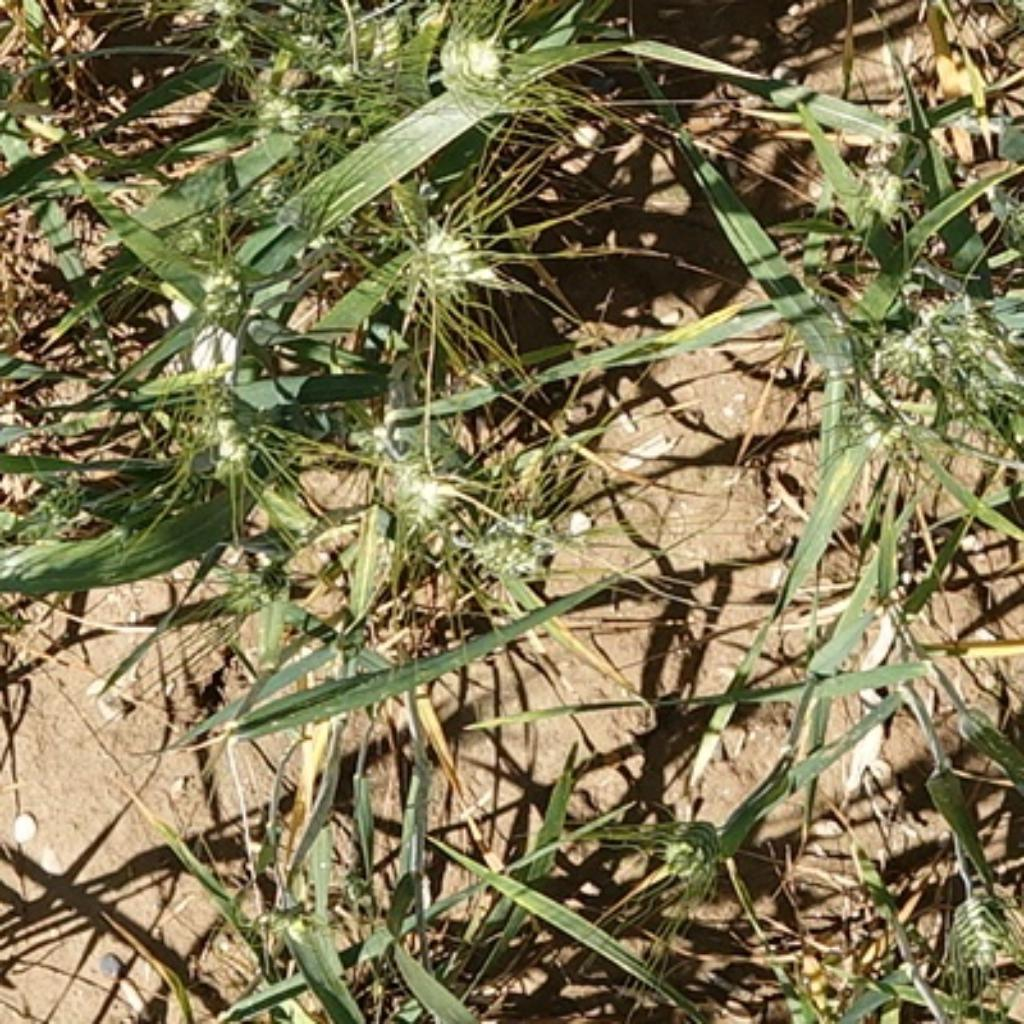0-0: (857, 294, 967, 430), (156, 355, 271, 481), (258, 875, 360, 977), (391, 204, 496, 299), (829, 133, 921, 232), (368, 440, 460, 527), (125, 199, 232, 273), (934, 872, 1013, 972), (960, 289, 1024, 412), (458, 496, 550, 578), (430, 7, 514, 94), (650, 798, 734, 885), (261, 76, 343, 161), (199, 540, 281, 614), (376, 0, 440, 92), (189, 248, 250, 337), (161, 0, 279, 38), (980, 174, 1024, 256)
